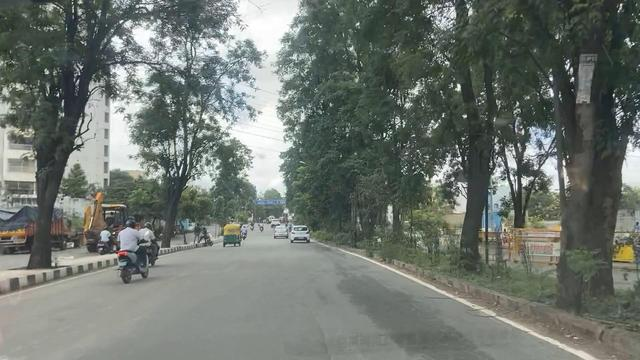LMV: (119, 223, 145, 276), (291, 223, 310, 245), (226, 223, 239, 247), (275, 224, 288, 239)
RoadDamages: (384, 327, 491, 360), (363, 292, 437, 323), (337, 258, 367, 287)
